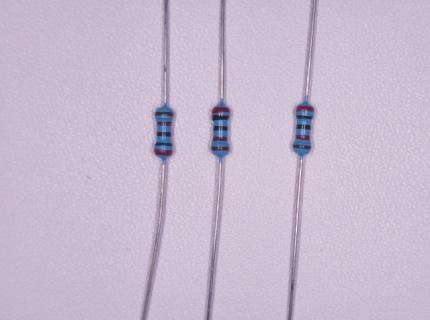Black band: (212, 115, 230, 121), (155, 141, 173, 146), (296, 115, 313, 120), (297, 124, 311, 130), (157, 131, 171, 137), (213, 126, 229, 131)
Brown band: (292, 144, 312, 150), (154, 111, 174, 116), (211, 146, 230, 151)
Red band: (154, 148, 173, 156), (296, 106, 315, 112), (212, 107, 230, 113), (157, 121, 172, 127), (213, 136, 228, 142), (296, 134, 310, 140)
